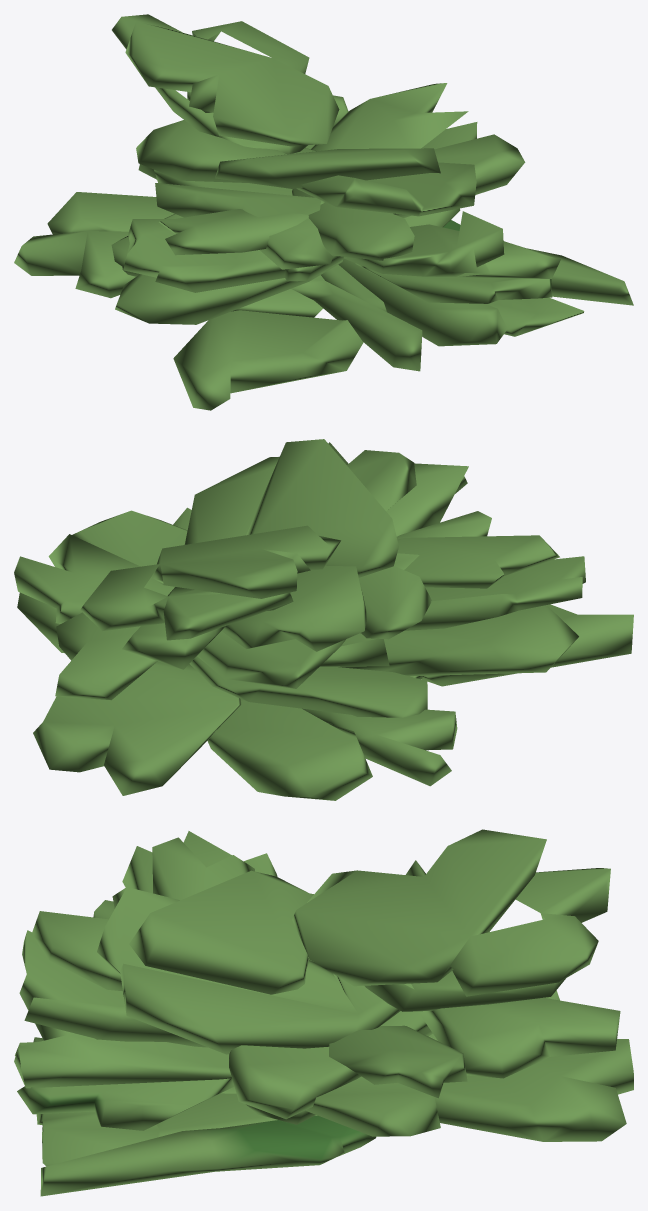
File: forage_mugwort.glb
The picture shows the model from 3 angles, top to bottom: view 1: azimuth 30°, elevation 25°; view 2: azimuth 150°, elevation 25°; view 3: azimuth 270°, elevation 25°; orthographic projection. The views are drawn at different scales.
Visible parts, largest first — view 1: forage_mugwort; view 2: forage_mugwort; view 3: forage_mugwort.
Boxes of the visible parts, x1,y1,x2,y2 form: forage_mugwort: (14, 14, 633, 410); forage_mugwort: (14, 439, 633, 800); forage_mugwort: (14, 829, 633, 1196).
Size of the model in its own units: 0.9109 by 0.4039 by 0.9852.
